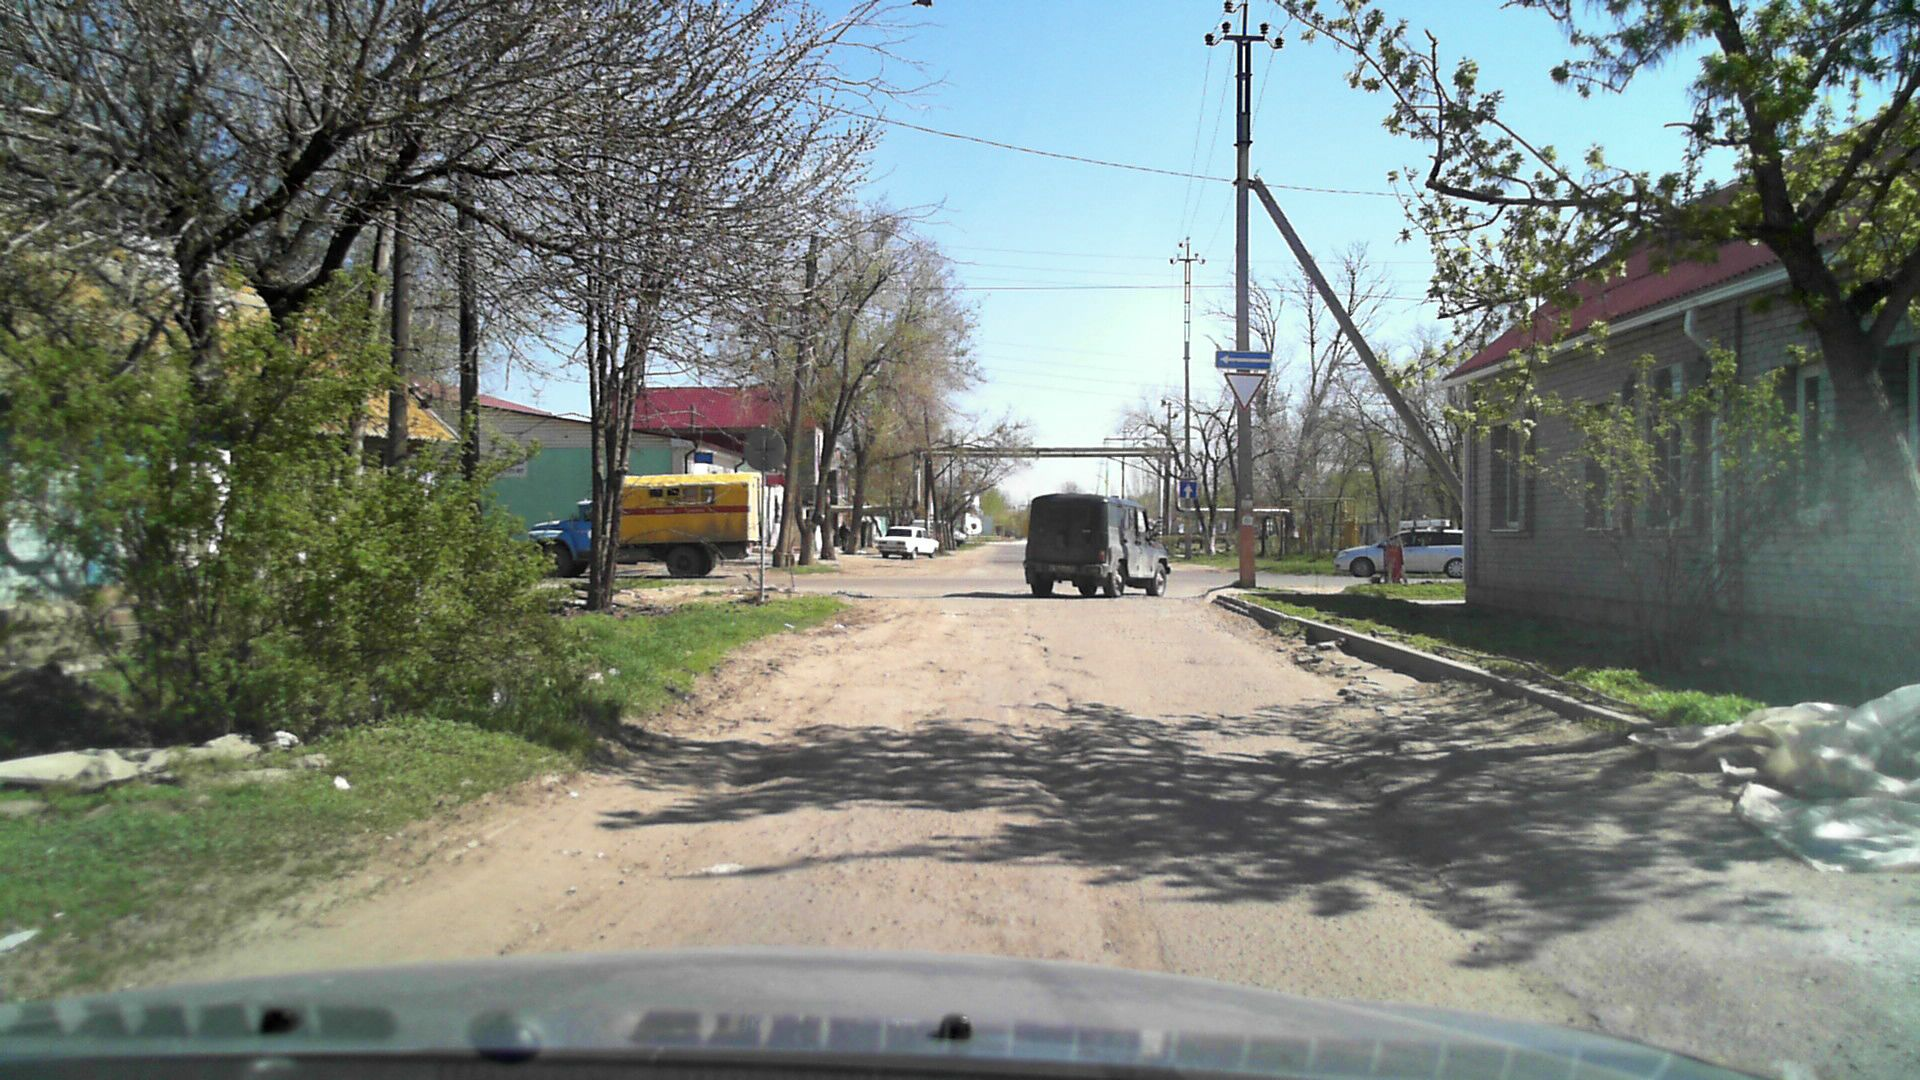One-Way Traffic: (1215, 349, 1273, 369)
